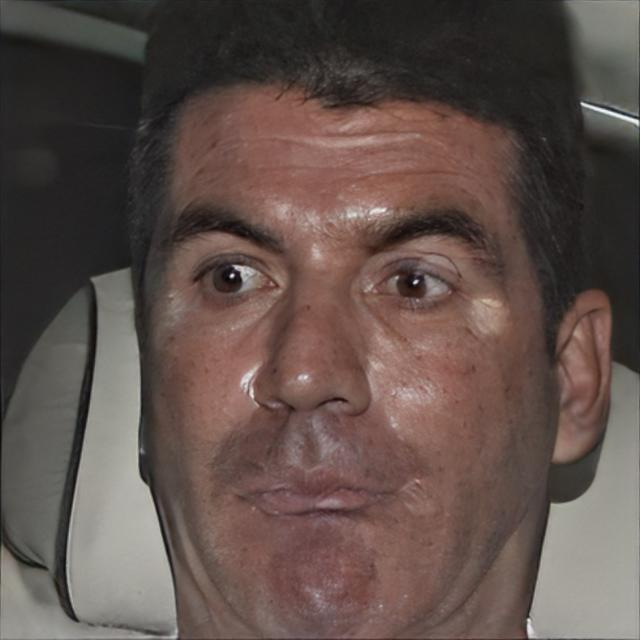surprise: (140, 72, 555, 639)
